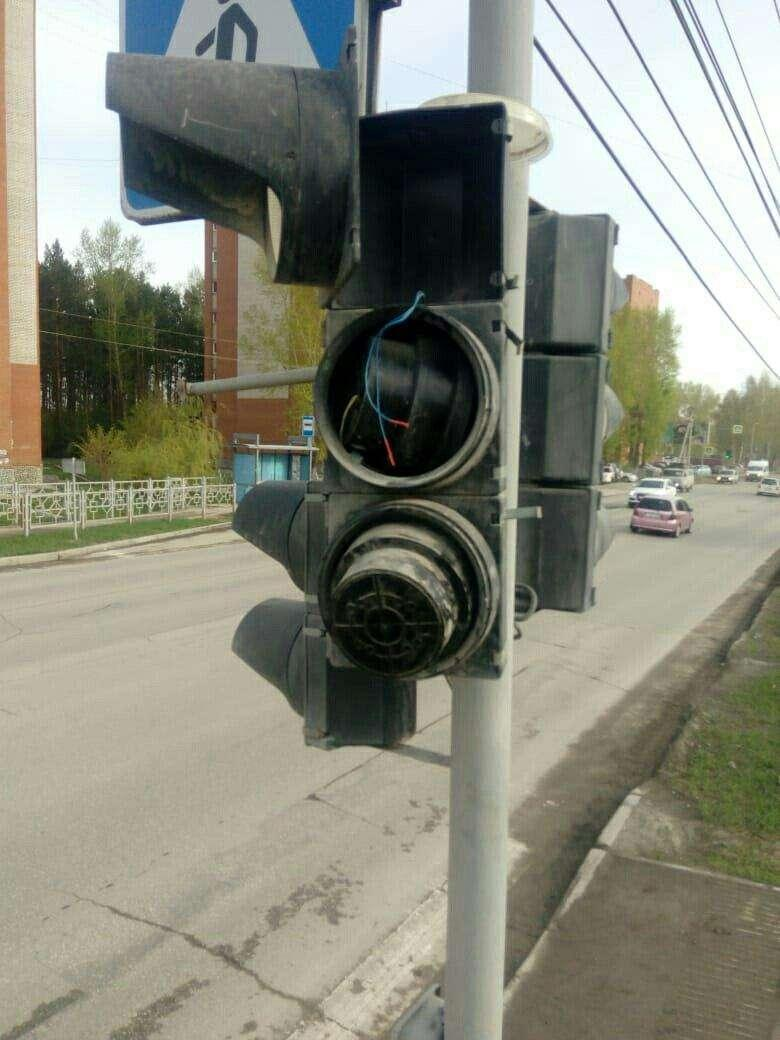off traffic light: (104, 49, 507, 676), (229, 478, 422, 750)
